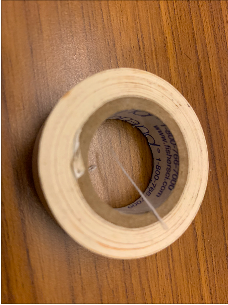Nonfood: (70, 84, 192, 254)
